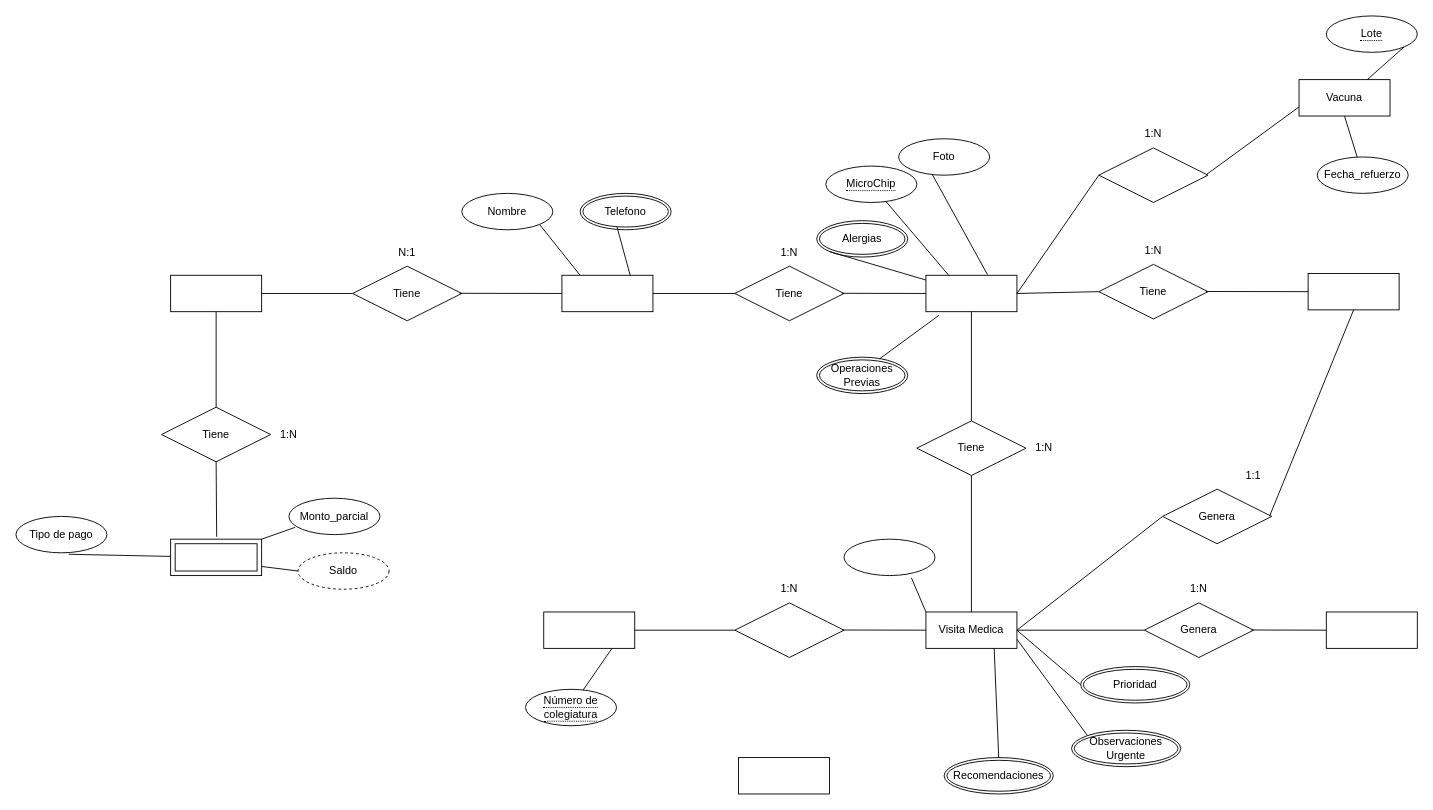
Some shapes in this 1433 by 810 pixel diagram are drawn without their labels. The centre of each missing label's shape, as x and y in pixels:
Atiende: point 789,629
Cita: point 1353,291
Diagnostico: point 889,557
Dueño: point 607,293
Factura: point 216,293
Mascota: point 971,293
Pago: point 216,557
Receta: point 783,775
Recibe: point 1153,174
Tratamiento: point 1371,629
Veterinario: point 589,629
